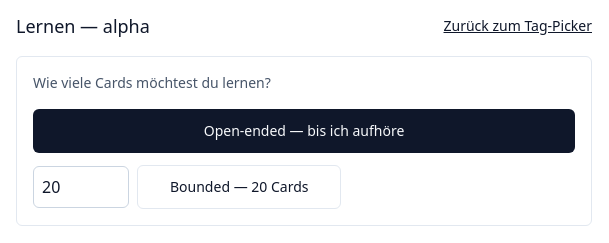
it: Cascade-key invariant — TagSessionReviewPage `listAllDueCards` › treats the session as empty when every matching card is cascade-deleted
What coordinates should you click on to do the following:
click the button "Open-ended — bis ich aufhöre"
I would click on:
 (304, 131)
Its box is 33,109 -> 575,153.
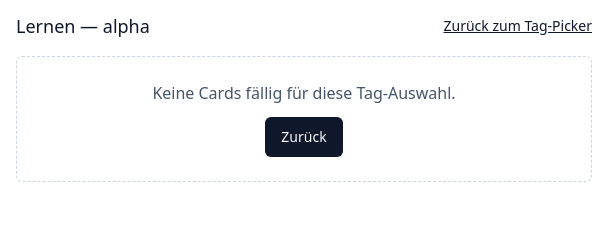
Expected: the text "Keine Cards fällig für diese Tag-Auswahl." is shown, 152,82 -> 456,104
